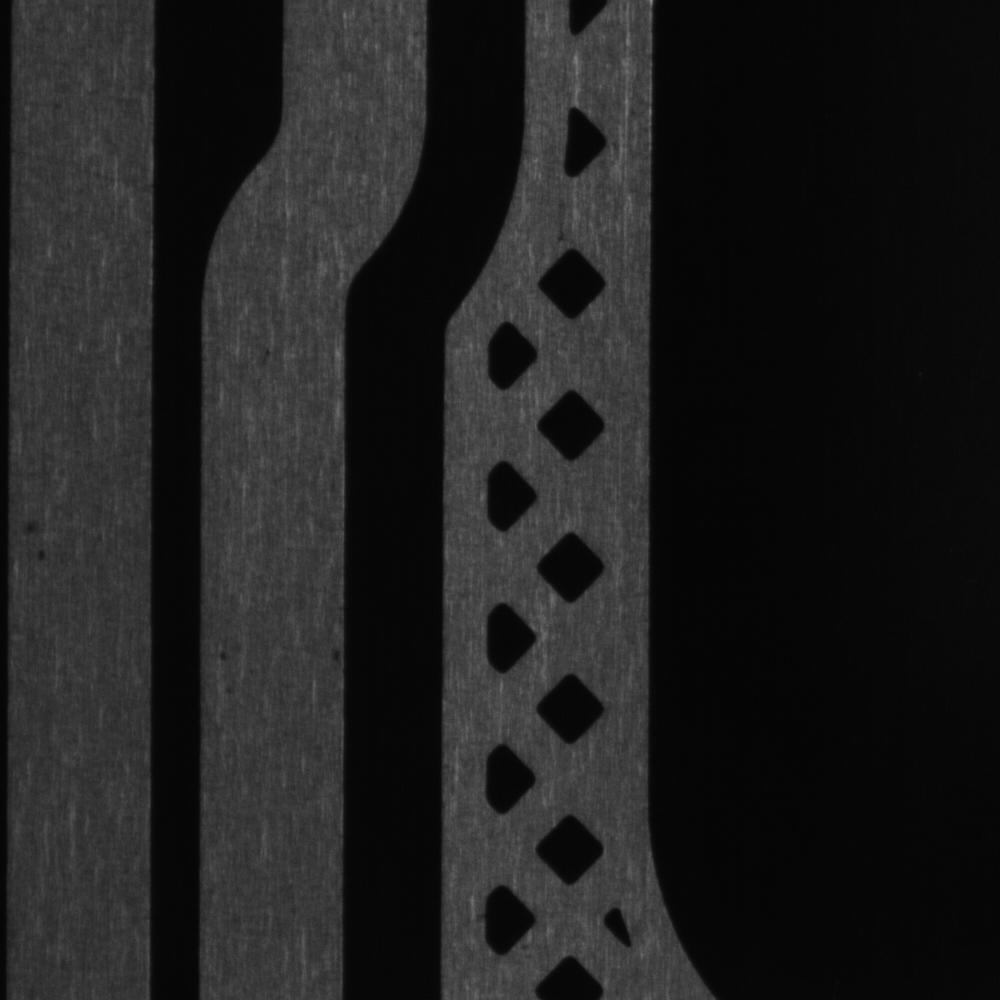Etching: (328, 636, 347, 674)
Pinhole: (16, 507, 44, 539), (26, 544, 53, 568), (215, 644, 234, 671)
